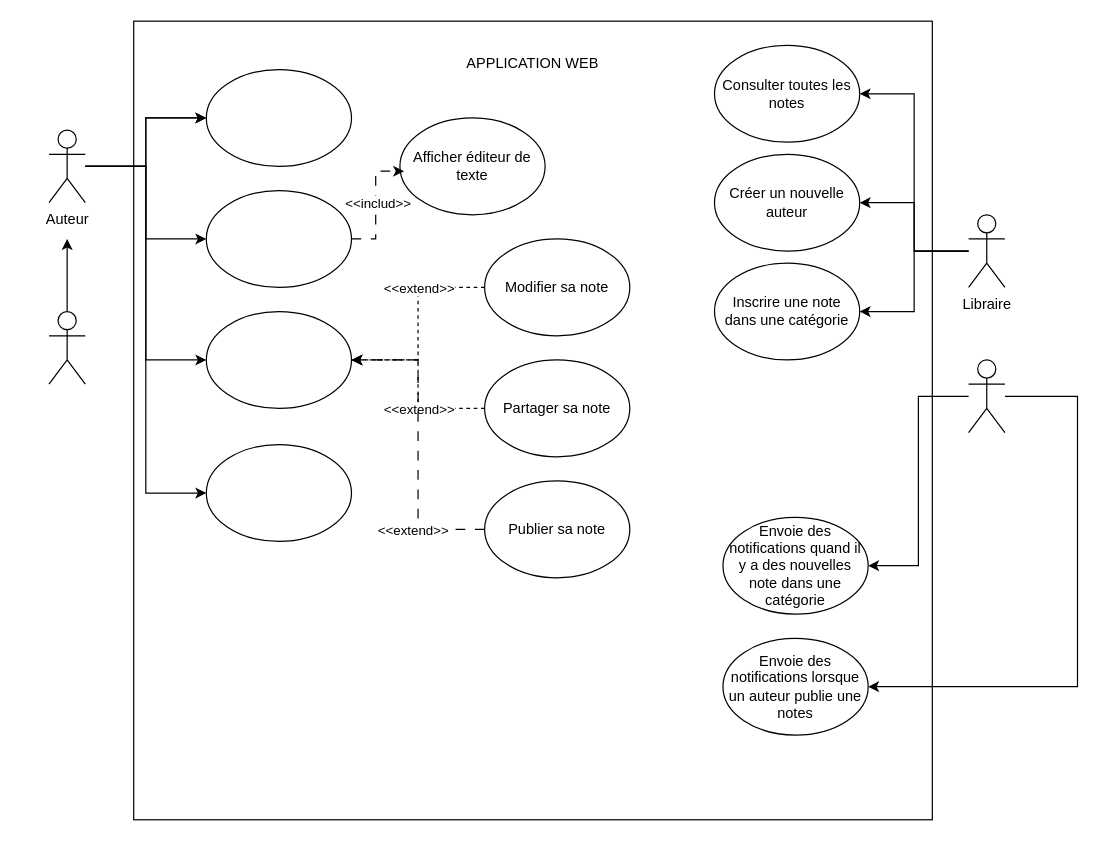
Image size: 1108x841. Some labels were removed from this diagram. The centre of each missing label's shape, as x and y in pixels:
"Administrateur" belongs at (x=66, y=347).
"Base de données" belongs at (x=986, y=396).
"Consulter sa note" belongs at (x=278, y=359).
"Créer une note" belongs at (x=278, y=238).
"Se connecter" belongs at (x=278, y=117).
"Supprimer sa note" belongs at (x=278, y=492).
